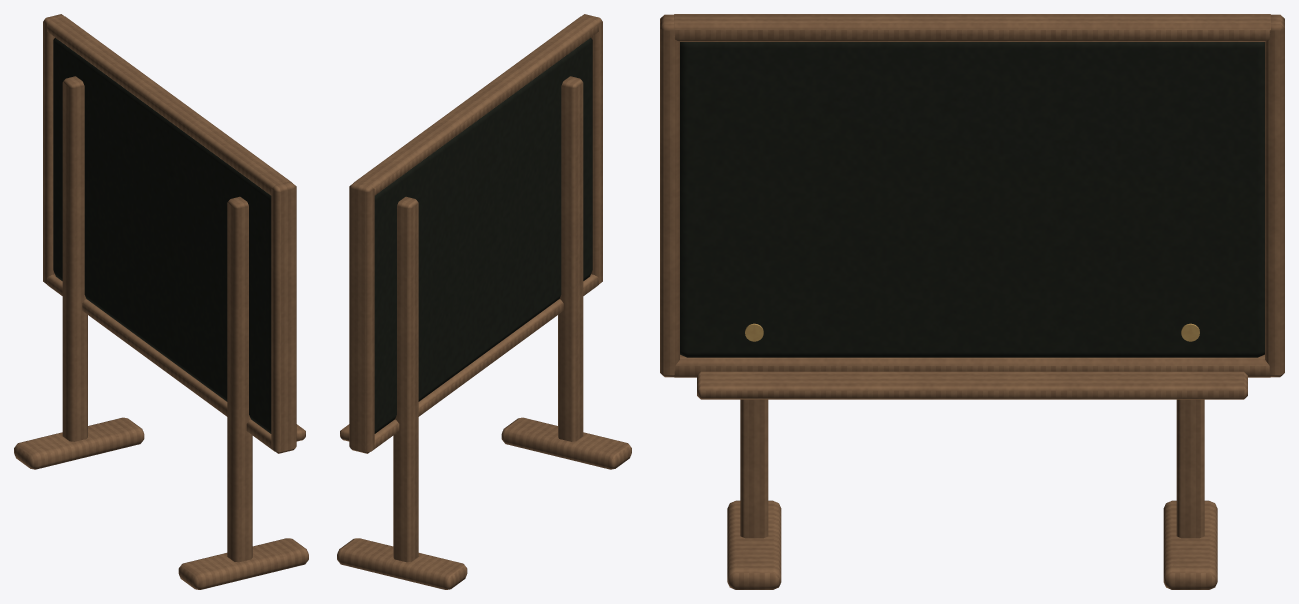
The model's file is moodboard.glb.
3 views of the same model, side by side, from view 1: azimuth 30°, elevation 25°; view 2: azimuth 150°, elevation 25°; view 3: azimuth 270°, elevation 25° (orthographic). The views are drawn at different scales.
Parts seen in each view (by area): view 1: Mesh_BoardBacking, Mesh_TimberFrame; view 2: Mesh_BoardBacking, Mesh_TimberFrame; view 3: Mesh_BoardBacking, Mesh_TimberFrame.
Boxes of the visible parts, x1,y1,x2,y2 form: Mesh_BoardBacking: (53, 37, 271, 433); Mesh_TimberFrame: (14, 14, 308, 589); Mesh_BoardBacking: (374, 37, 592, 433); Mesh_TimberFrame: (337, 14, 631, 589); Mesh_BoardBacking: (680, 42, 1264, 357); Mesh_TimberFrame: (660, 14, 1284, 589).
Size of the model in its own units: 0.75 by 2.55 by 2.66.
Materials: 3 (3 with a texture image).
